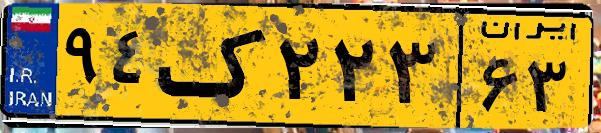2: (270, 28, 330, 110), (330, 28, 385, 110)
3: (385, 28, 445, 110), (525, 38, 570, 115)
4: (110, 28, 158, 98)
6: (475, 38, 525, 113)
9: (57, 26, 110, 100)
ک: (158, 12, 270, 120)
